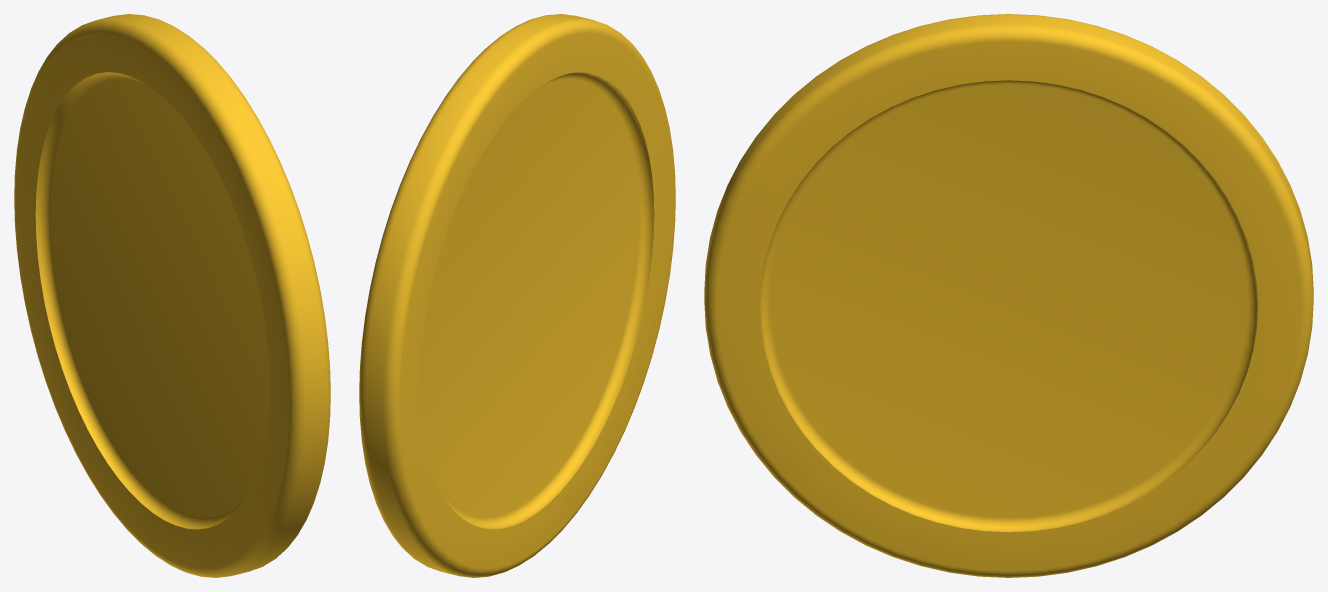
3 views of the same model, side by side, from view 1: azimuth 30°, elevation 25°; view 2: azimuth 150°, elevation 25°; view 3: azimuth 270°, elevation 25° (orthographic). The views are drawn at different scales.
Parts seen in each view (by area): view 1: Cylinder & Cylinder 1 & Cylinder 2; view 2: Cylinder & Cylinder 1 & Cylinder 2; view 3: Cylinder & Cylinder 1 & Cylinder 2.
Boxes of the visible parts, x1=… form: Cylinder & Cylinder 1 & Cylinder 2: x1=14, y1=14, x2=330, y2=577; Cylinder & Cylinder 1 & Cylinder 2: x1=359, y1=14, x2=675, y2=577; Cylinder & Cylinder 1 & Cylinder 2: x1=704, y1=14, x2=1313, y2=577.
Size of the model in its own units: 8 by 100 by 100.
